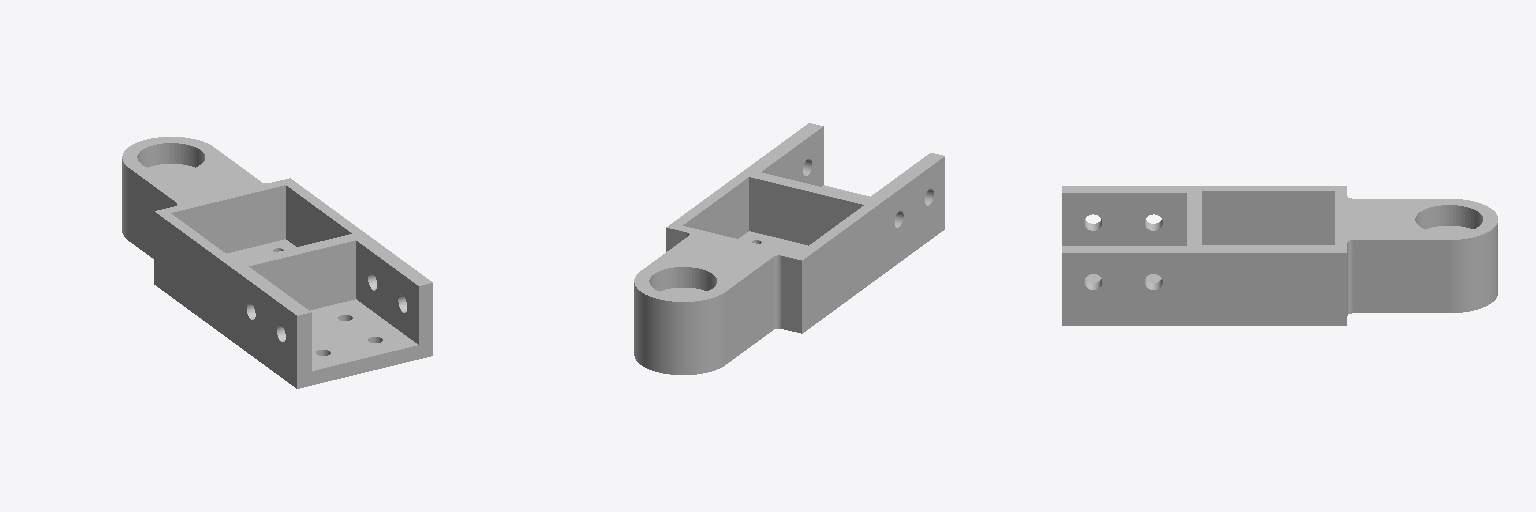
Rendered from rotational_axis_motor_mount_2x.obj.
The picture shows the model from 3 angles: view 1: azimuth 30°, elevation 25°; view 2: azimuth 150°, elevation 25°; view 3: azimuth 270°, elevation 25°; orthographic projection.
Visible parts, largest first — view 1: rotational_axis_motor_mount_2x; view 2: rotational_axis_motor_mount_2x; view 3: rotational_axis_motor_mount_2x.
Part boxes in pixels (bbox=[...]): rotational_axis_motor_mount_2x: bbox=[122, 137, 432, 388]; rotational_axis_motor_mount_2x: bbox=[634, 123, 944, 374]; rotational_axis_motor_mount_2x: bbox=[1062, 186, 1497, 325].
Bounding box in the file's own units: 52 × 26.75 × 145.